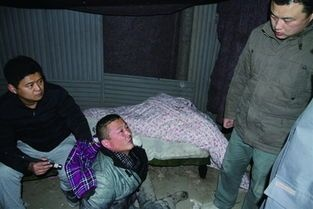falling: (41, 106, 173, 207)
